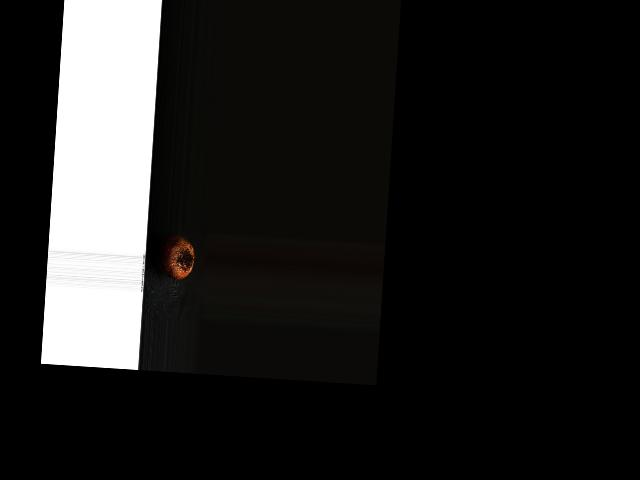beet: (153, 231, 195, 279)
